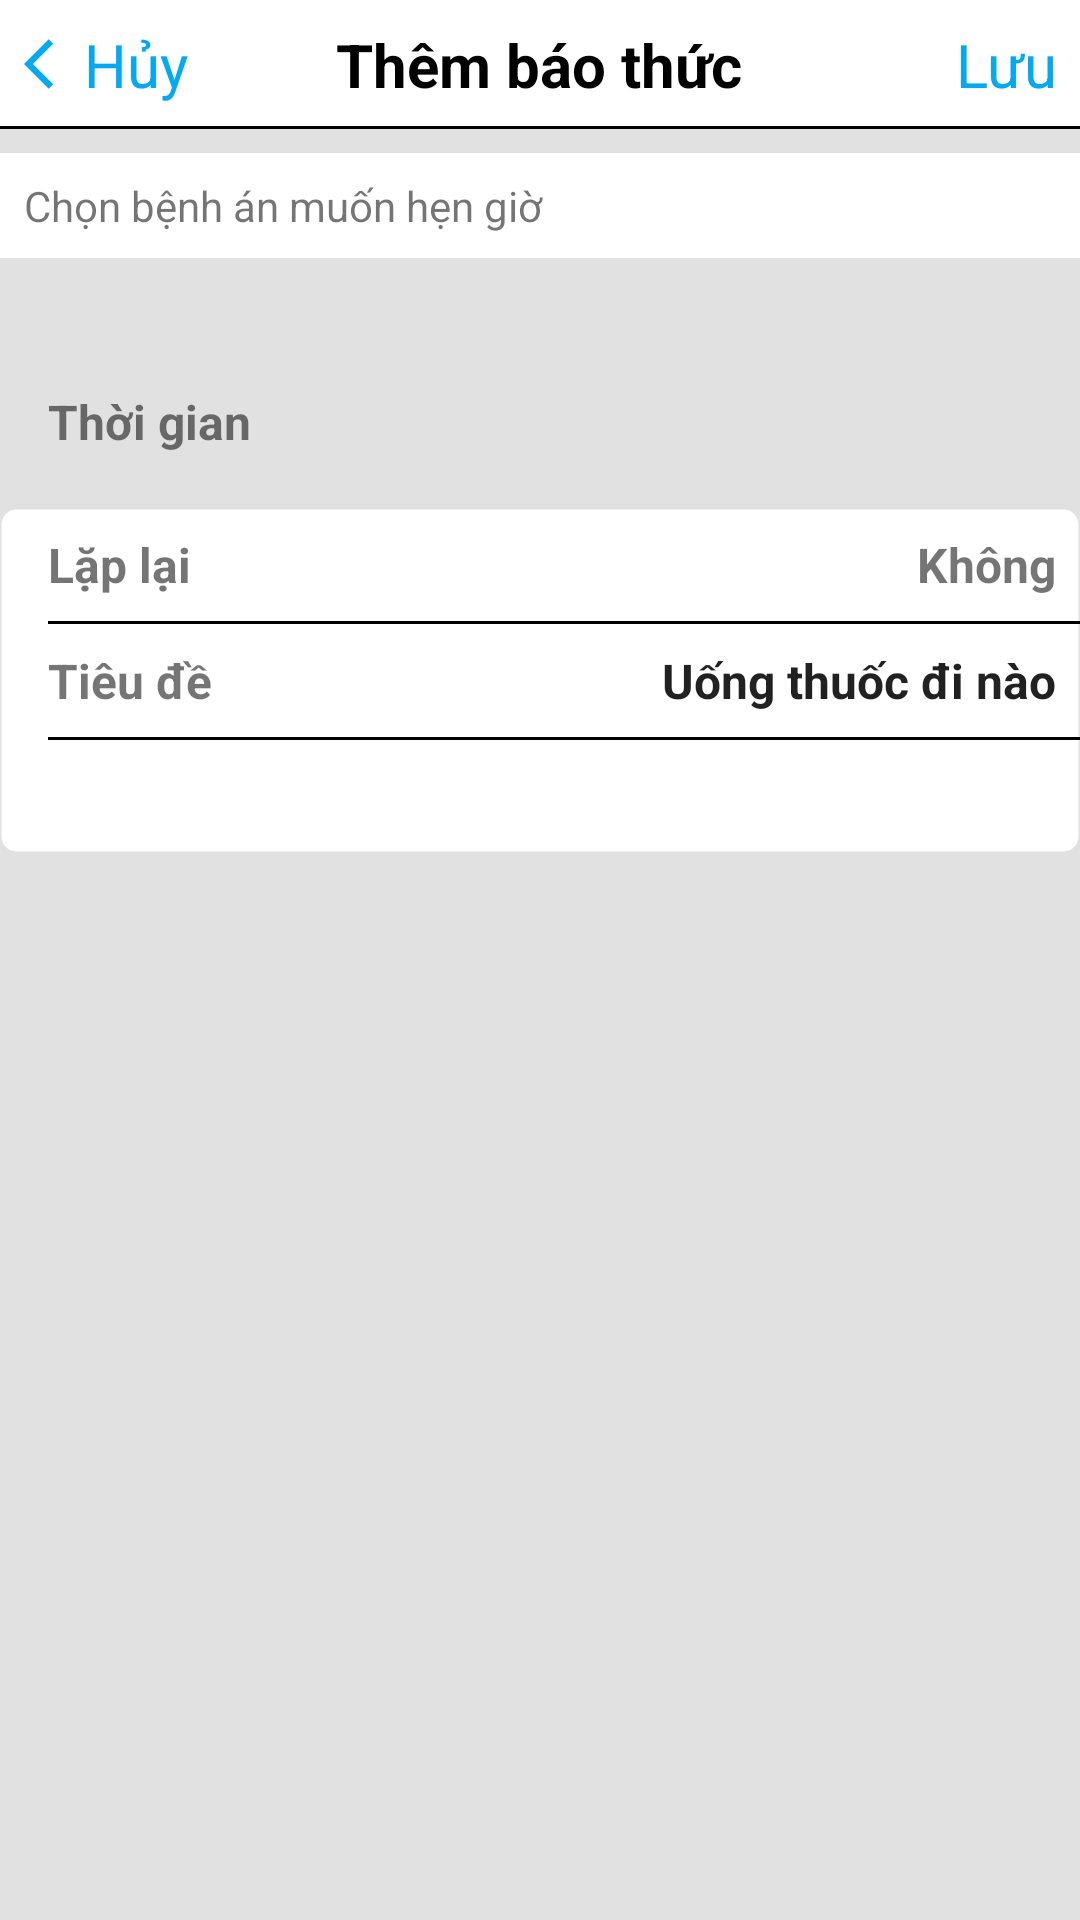

Where icons sit on this 1080px×1920px app screen, as (x1, y1, x2, y2):
arrow back: (24, 39, 53, 89)
